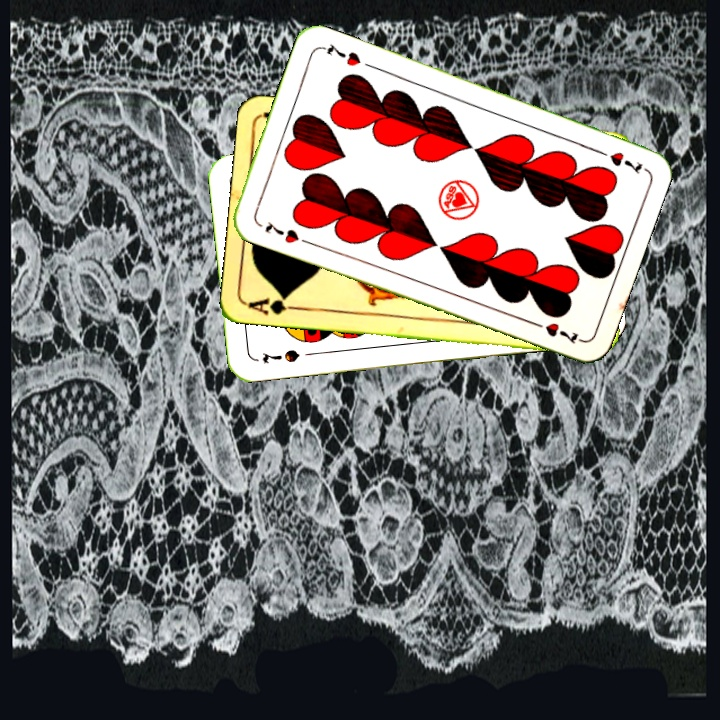GA: (245, 291, 304, 317)
H7: (590, 145, 645, 176), (260, 217, 312, 247)
S7: (258, 345, 302, 366)
